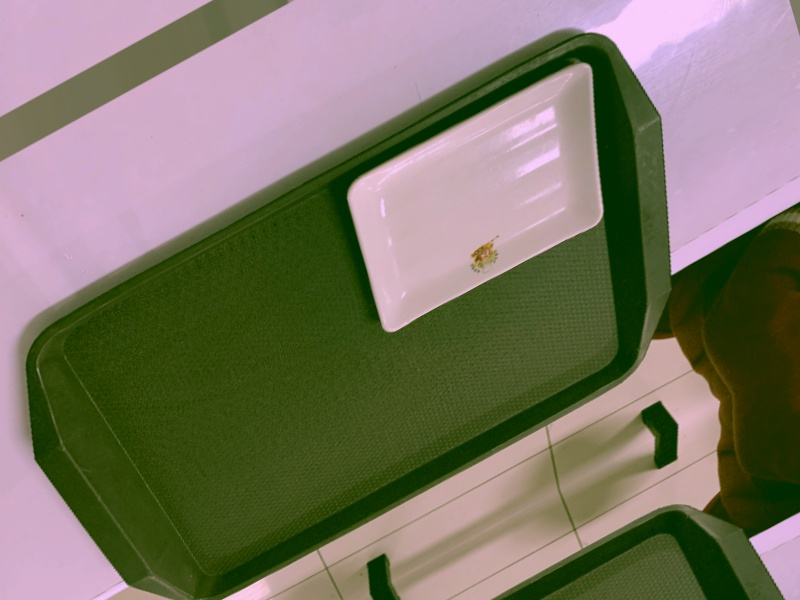dish4: (326, 42, 637, 353)
